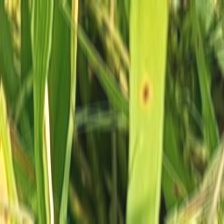Bacterial_Leaf_Blight: (135, 74, 154, 107)
